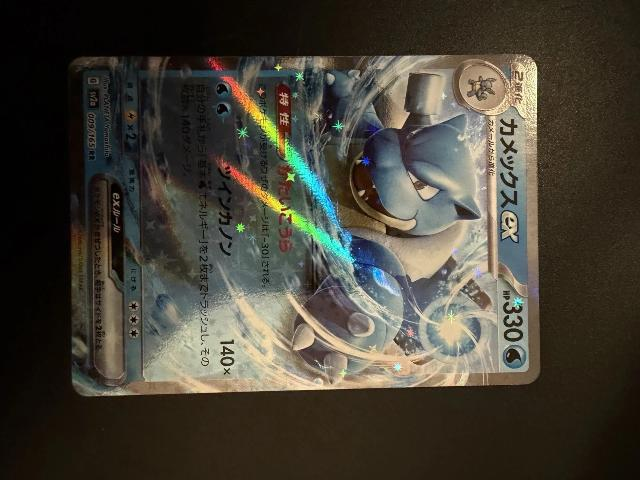Card: (58, 48, 547, 403)
Name: (497, 112, 524, 253)
